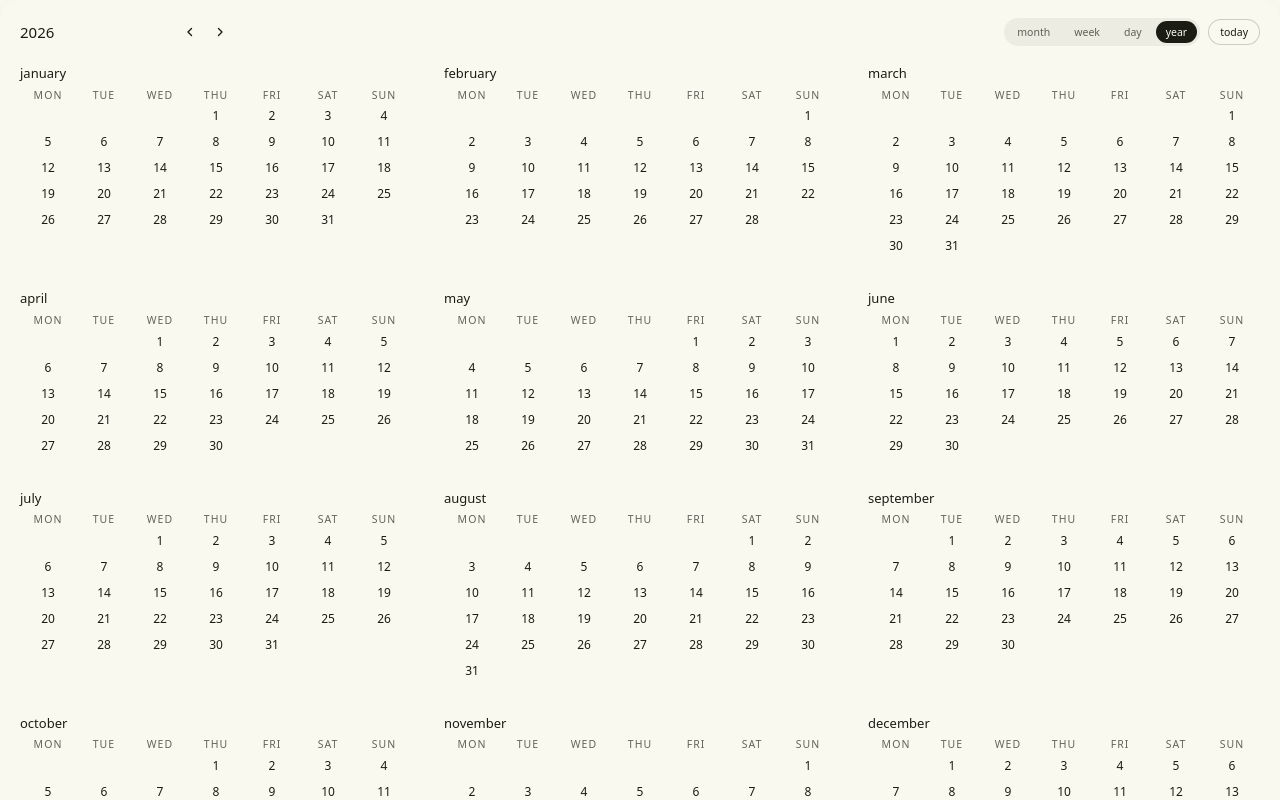
Test: year span › labels the year, steps a year, and today stays on the year span
Check: the text "2026" is shown, box 20,22 -> 54,42
Check: the radio button labelled "year" is checked, box 1156,21 -> 1197,43
Click the button named "Next year" at (220, 32), box 206,18 -> 234,46
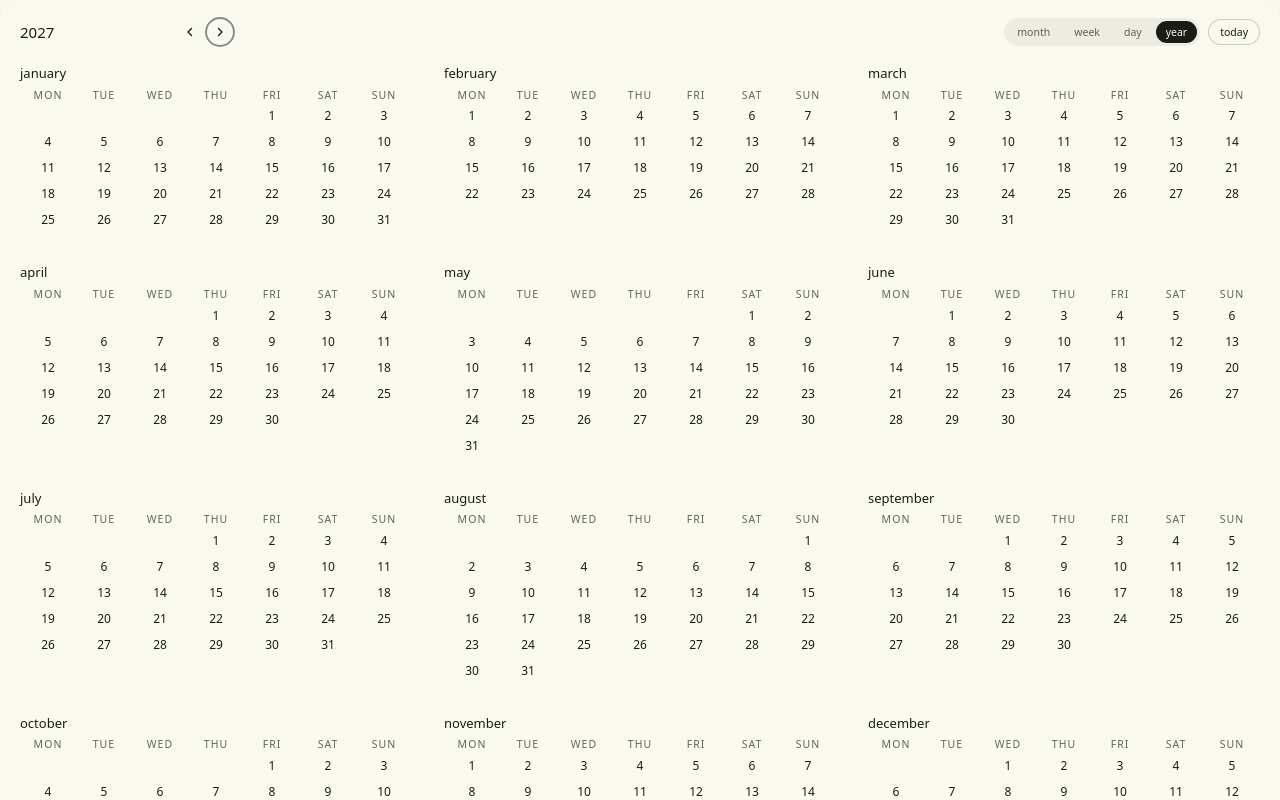
Check: the radio button labelled "year" is checked, box 1156,21 -> 1197,43
Check: the text "2027" is shown, box 20,22 -> 54,42
Click the button named "Previous year" at (190, 32), box 176,18 -> 204,46
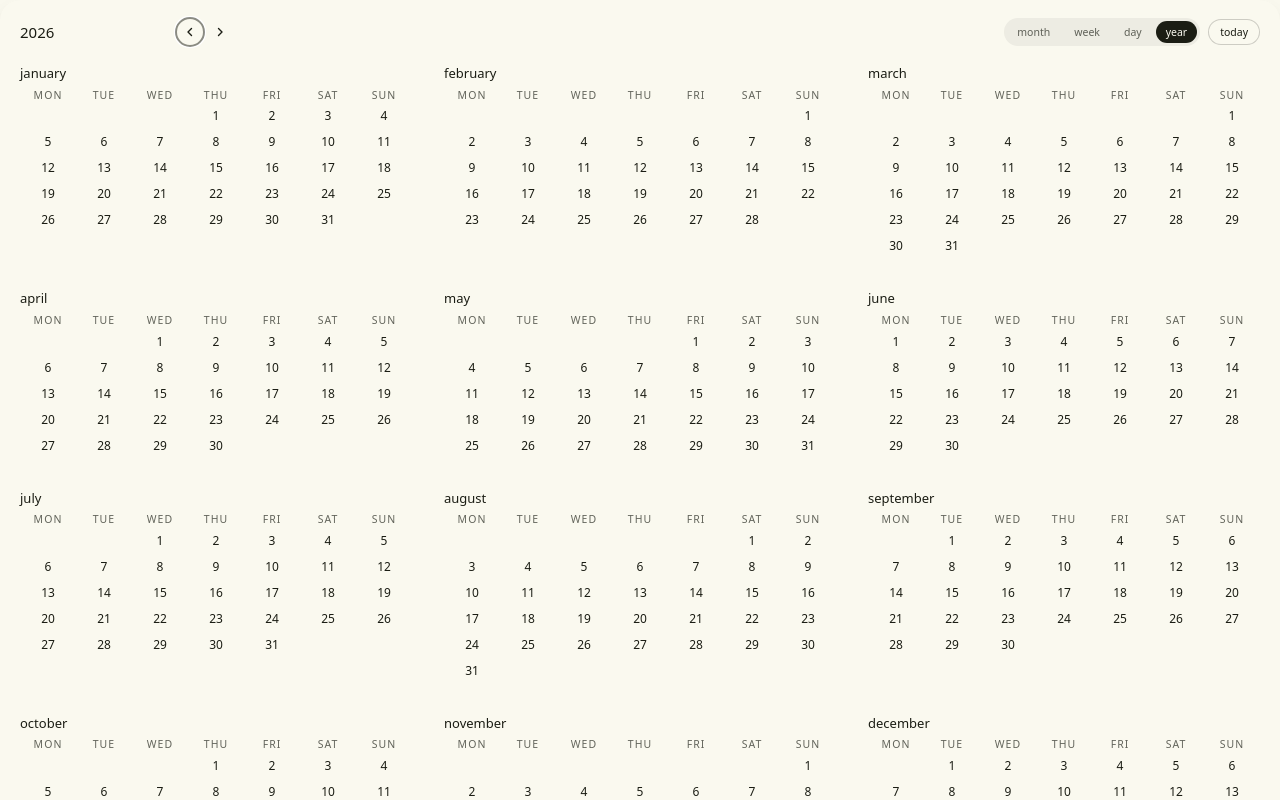
Check: the text "2026" is shown, box 20,22 -> 54,42
Click the button named "Next year" at (220, 32), box 206,18 -> 234,46
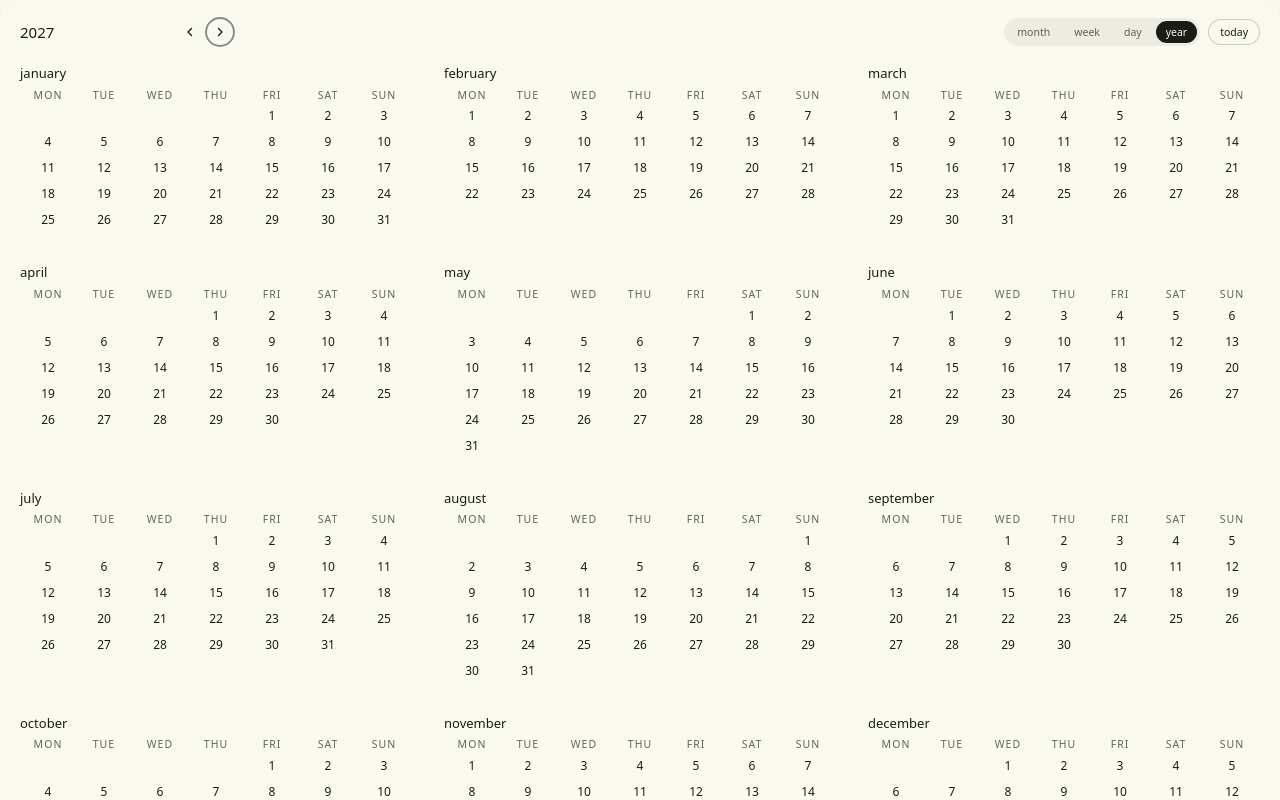
Click the button "today" at (1234, 32), box 1208,19 -> 1260,45
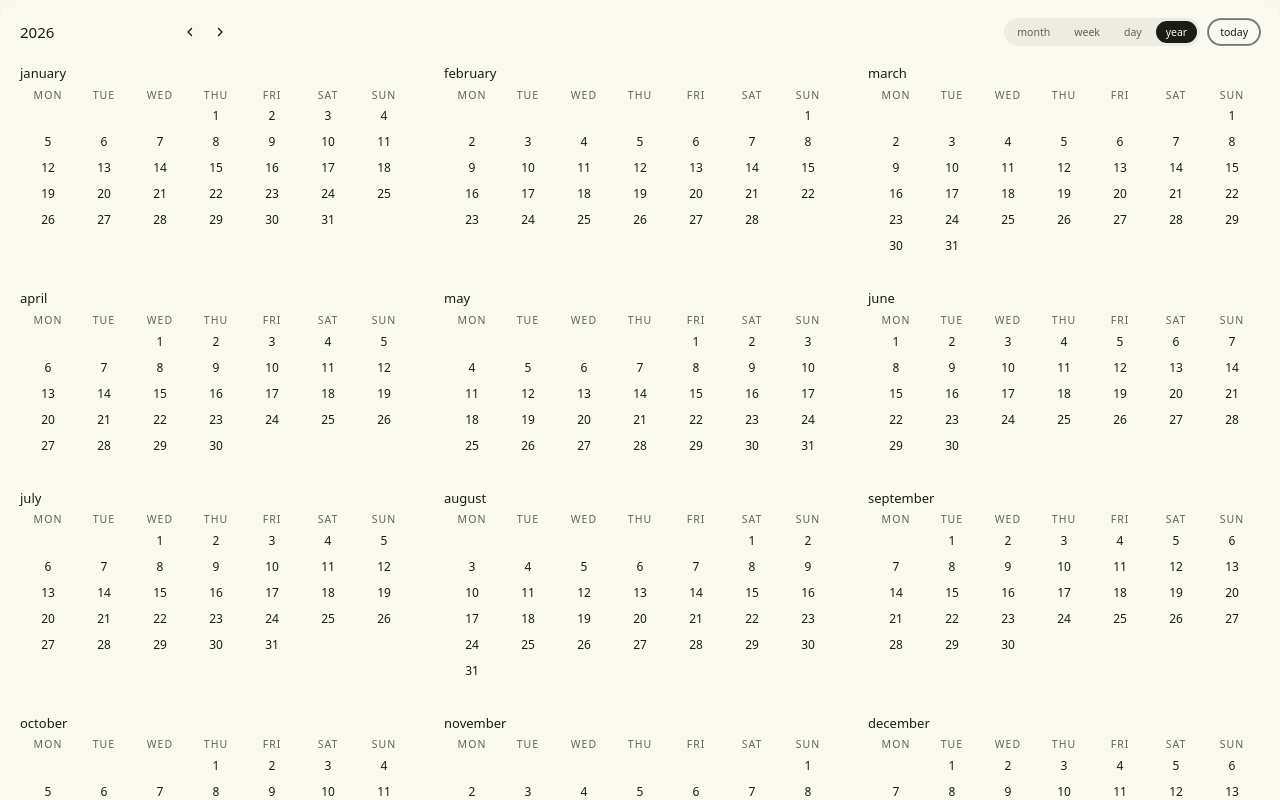
Check: the radio button labelled "year" is checked, box 1156,21 -> 1197,43
Check: the text "2026" is shown, box 20,22 -> 54,42
